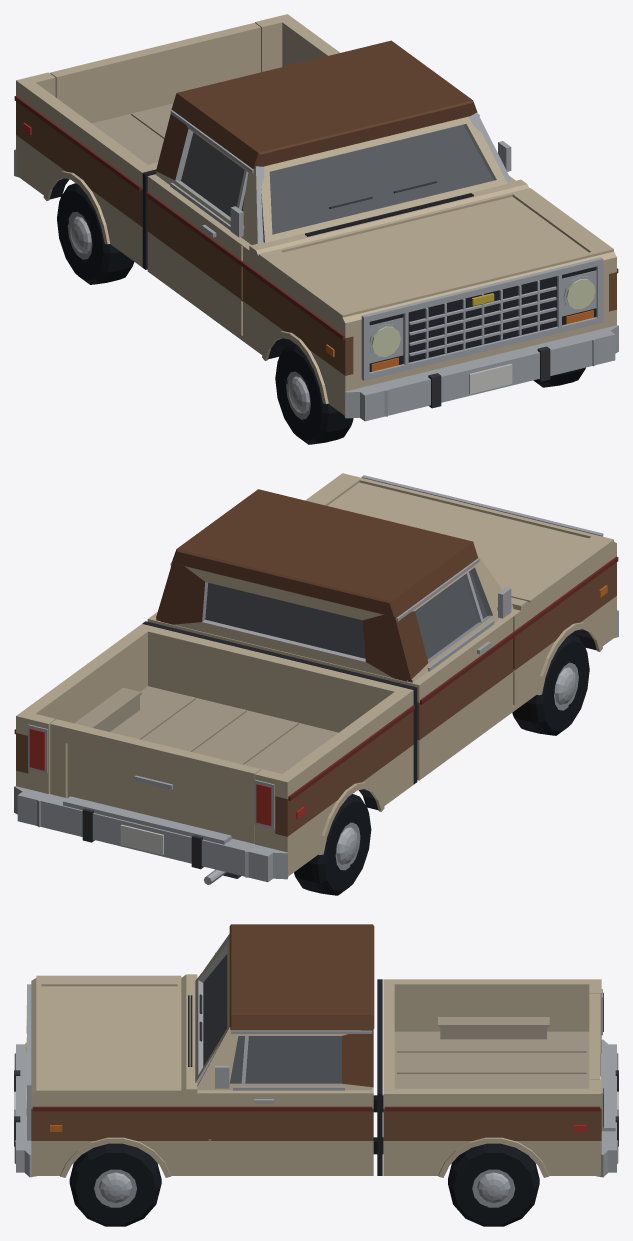
File: pickup-truck-70s-8c0080-preview.glb
The picture shows the model from 3 angles, top to bottom: view 1: azimuth 30°, elevation 25°; view 2: azimuth 150°, elevation 25°; view 3: azimuth 270°, elevation 25°; orthographic projection. The views are drawn at different scales.
Parts seen in each view (by area): view 1: object 1, wheel-rl, wheel-fl; view 2: object 1, wheel-fl, wheel-rl; view 3: object 1, wheel-fr, wheel-rr.
Boxes of the visible parts, <box> form: object 1: <box>14,14,618,421</box>; wheel-rl: <box>57,183,134,284</box>; wheel-fl: <box>275,343,353,444</box>; object 1: <box>14,473,618,884</box>; wheel-fl: <box>512,634,589,735</box>; wheel-rl: <box>294,794,371,895</box>; object 1: <box>14,924,618,1177</box>; wheel-fr: <box>69,1143,161,1226</box>; wheel-rr: <box>448,1143,539,1226</box>.
Bounding box in the file's own units: 2.24 × 1.8 × 4.88.
